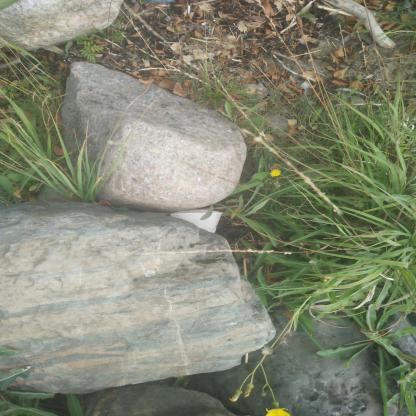karton: (171, 210, 224, 236)
